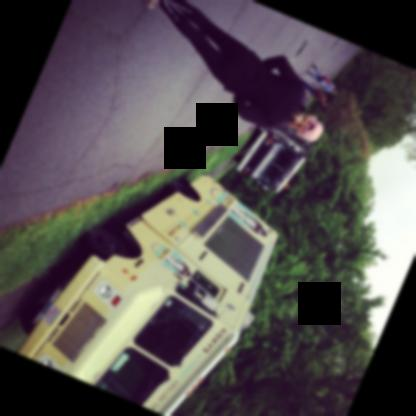handbag: (320, 74, 329, 86)
